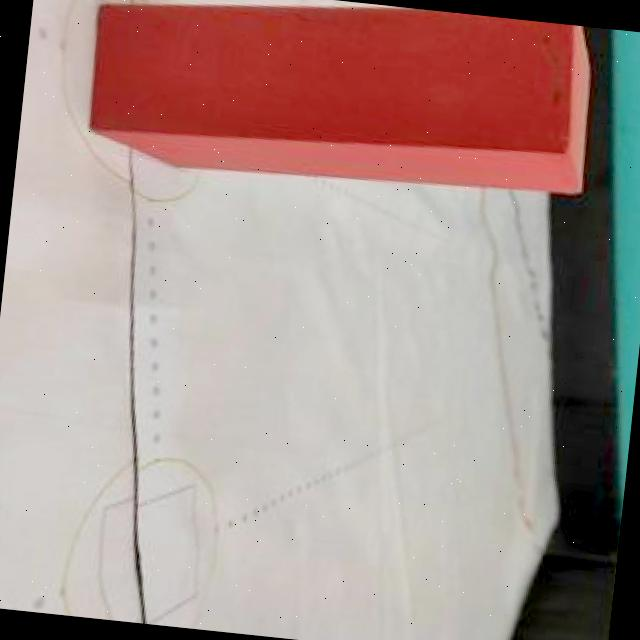redbox: (82, 0, 603, 216)
